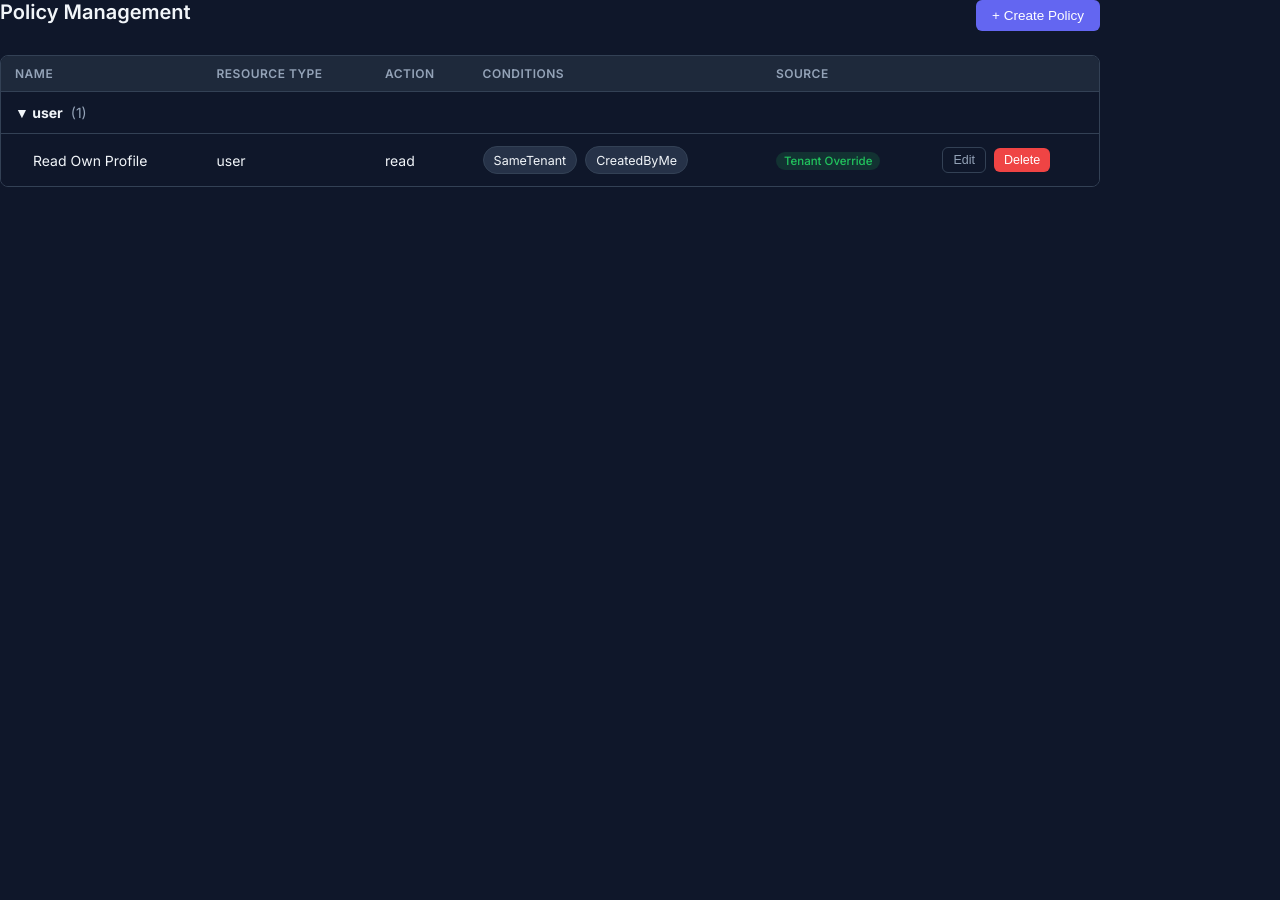
Test: PolicyManagementPage › shows delete confirmation dialog with revert message
Expected: the text "Read Own Profile" is shown, [1,134,202,186]
Click the button "Delete" at (1022, 160), box [994,148,1050,172]
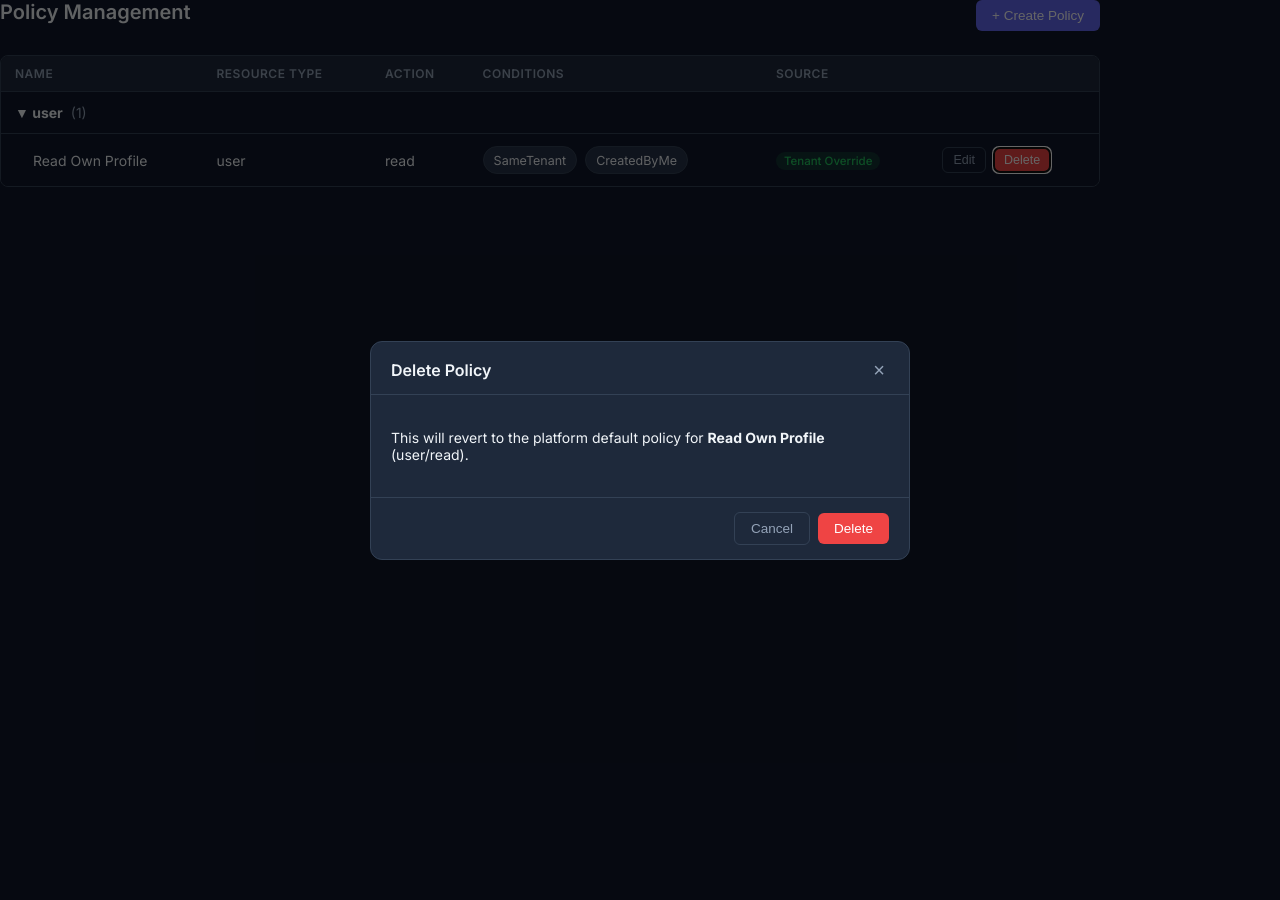
Expected: the text "revert to the platform default" is shown, [391,428,704,446]
Expected: the text "revert to the platform default" shows "Read Own Profile", [708,428,825,446]
